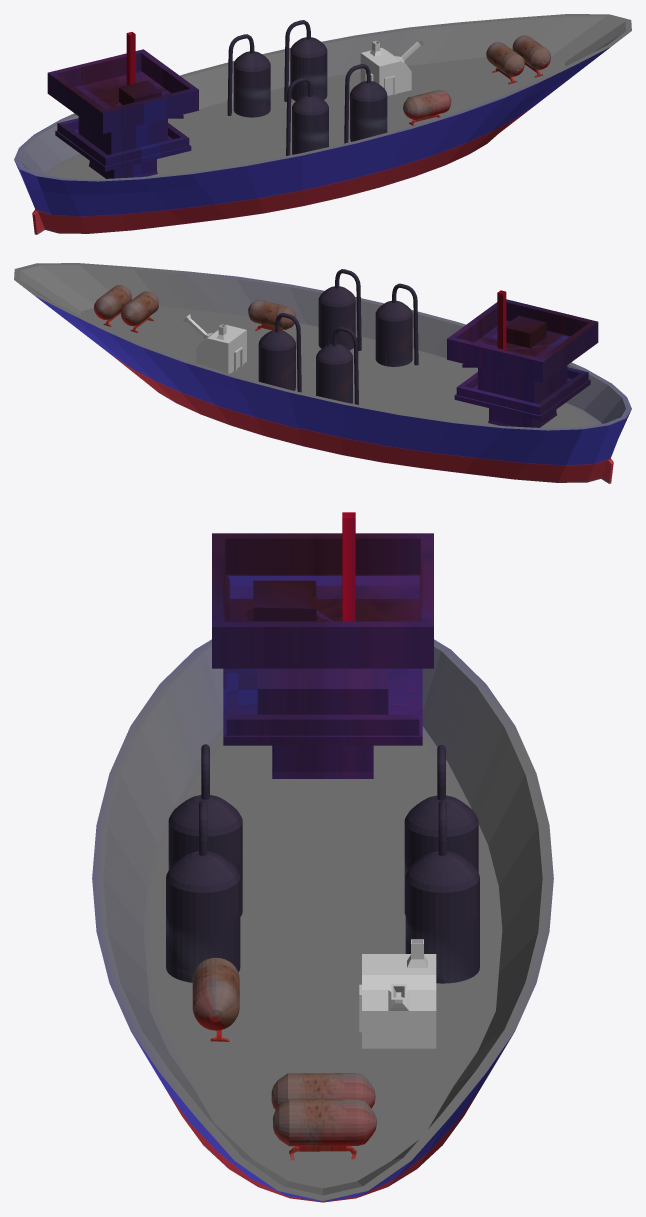
Rendered from Ship(Turne).fbx.
3 views of the same model, one above another, from view 1: azimuth 30°, elevation 25°; view 2: azimuth 150°, elevation 25°; view 3: azimuth 270°, elevation 25° (orthographic). The views are drawn at different scales.
Visible parts, largest first — view 1: Cylinder, Cube, Cylinder.004, Cylinder.002, Cylinder.003, Cylinder.001, Cube.001, Cylinder.005, Cylinder.007, Cylinder.006; view 2: Cylinder, Cube, Cylinder.001, Cylinder.003, Cylinder.002, Cylinder.004, Cube.001, Cylinder.005, Cylinder.007, Cylinder.006; view 3: Cylinder, Cube, Cylinder.002, Cylinder.003, Cube.001, Cylinder.006, Cylinder.001, Cylinder.004, Cylinder.005, Cylinder.007.
Part boxes in pixels (x1,y1,x2,y2): Cylinder: (14, 14, 631, 234); Cube: (47, 32, 198, 178); Cylinder.004: (227, 34, 270, 117); Cylinder.002: (344, 64, 387, 143); Cylinder.003: (284, 20, 327, 101); Cylinder.001: (286, 77, 328, 155); Cube.001: (360, 37, 424, 95); Cylinder.005: (403, 90, 451, 125); Cylinder.007: (486, 42, 524, 84); Cylinder.006: (512, 35, 550, 77); Cylinder: (14, 263, 631, 483); Cube: (447, 290, 598, 427); Cylinder.001: (375, 283, 418, 366); Cylinder.003: (258, 313, 301, 392); Cylinder.002: (318, 269, 361, 350); Cylinder.004: (316, 326, 358, 404); Cube.001: (183, 314, 246, 373); Cylinder.005: (248, 300, 296, 331); Cylinder.007: (121, 291, 158, 332); Cylinder.006: (94, 285, 131, 326); Cylinder: (92, 639, 553, 1202); Cube: (212, 512, 433, 778); Cylinder.002: (166, 800, 240, 982); Cylinder.003: (405, 800, 479, 983); Cube.001: (359, 939, 436, 1048); Cylinder.006: (273, 1099, 376, 1160); Cylinder.001: (168, 744, 242, 916); Cylinder.004: (404, 745, 478, 915); Cylinder.005: (192, 957, 239, 1041); Cylinder.007: (271, 1073, 375, 1110).
Bounding box in the file's own units: 3805 × 1016 × 1244.
